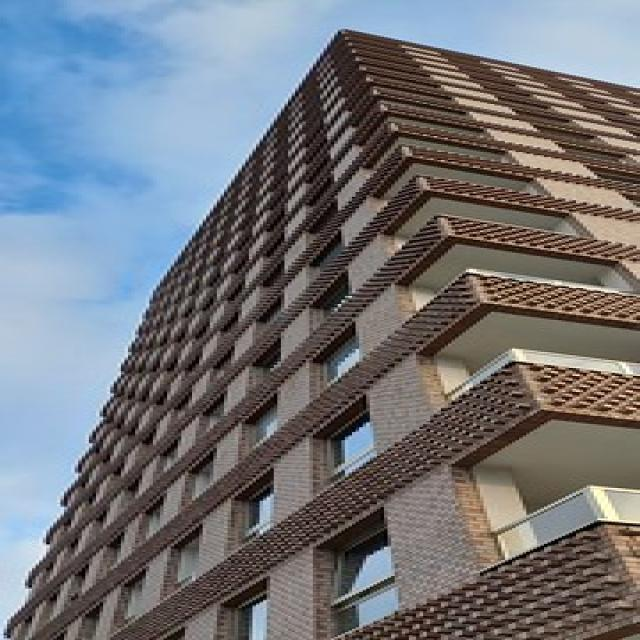building: (14, 1, 640, 638)
